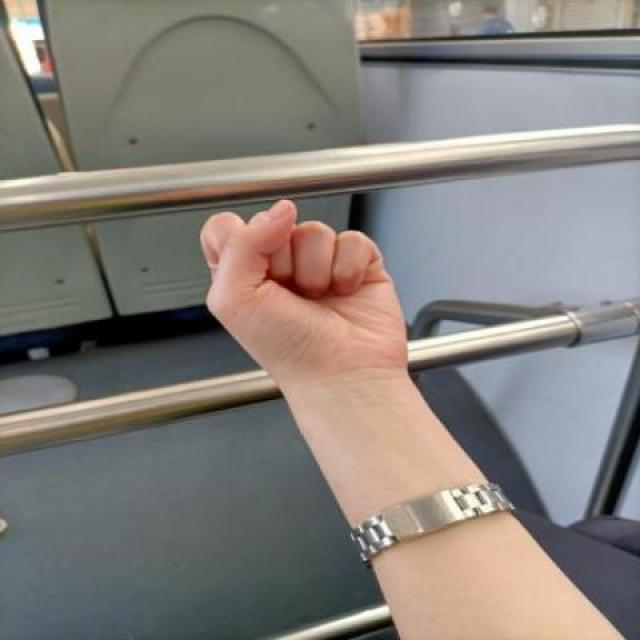Closed Hand: (192, 202, 432, 405)
